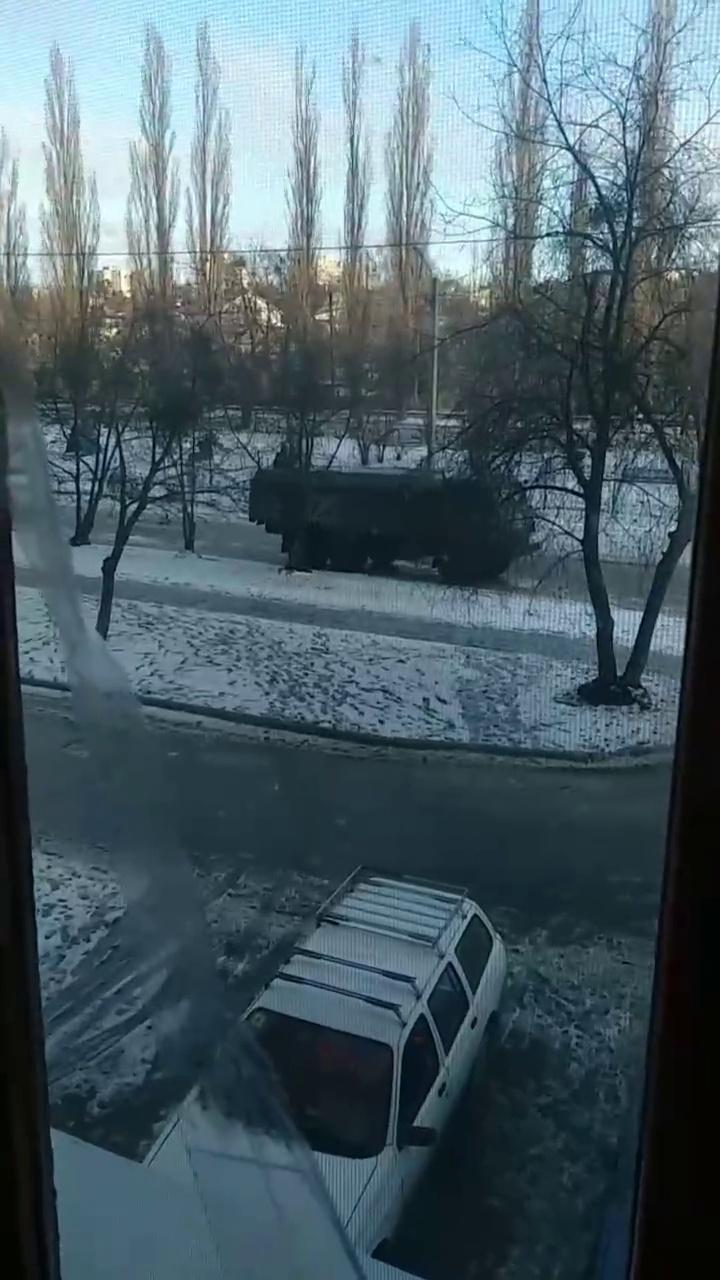car: (172, 849, 520, 1275)
truck: (248, 461, 543, 586)
